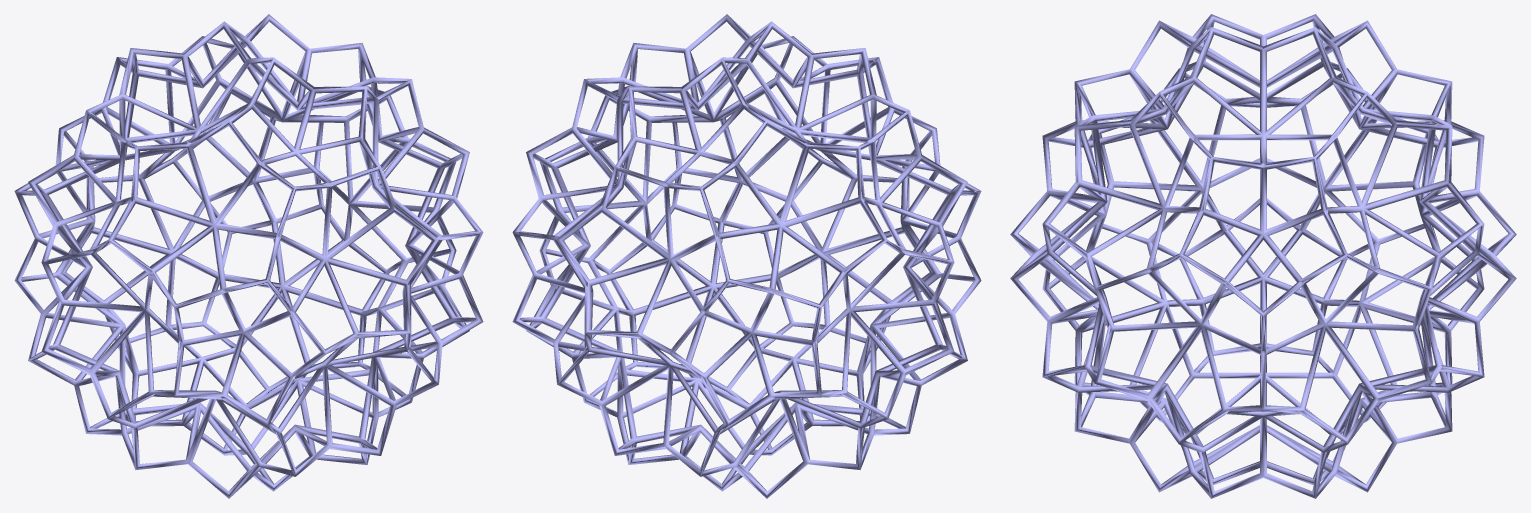
Rendered from TruncatedIcosahedronK2.glb.
3 views of the same model, side by side, from view 1: azimuth 30°, elevation 25°; view 2: azimuth 150°, elevation 25°; view 3: azimuth 270°, elevation 25° (orthographic). The views are drawn at different scales.
Visible parts, largest first — view 1: Truncated_Icosahedron; view 2: Truncated_Icosahedron; view 3: Truncated_Icosahedron.
Boxes of the visible parts, bbox=[...] form: Truncated_Icosahedron: bbox=[14, 14, 483, 498]; Truncated_Icosahedron: bbox=[512, 14, 981, 498]; Truncated_Icosahedron: bbox=[1010, 14, 1516, 498].
Bounding box in the file's own units: 4.92 × 4.92 × 4.92.
